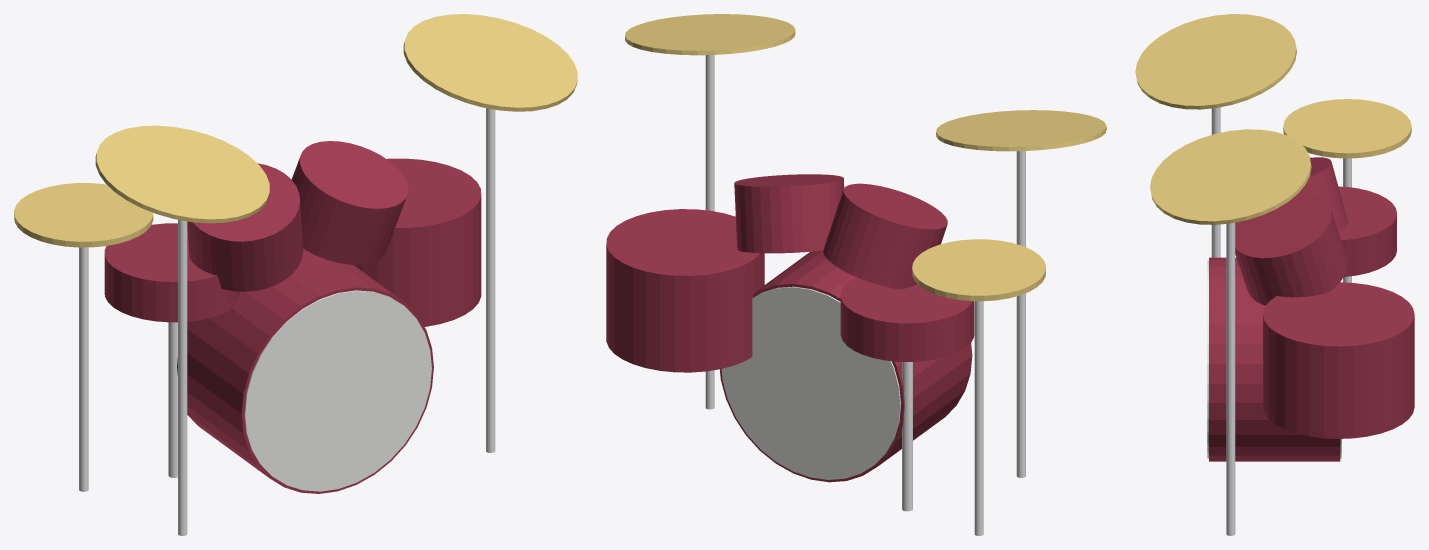
Rendered from concert_stage_drum_kit.glb.
3 views of the same model, side by side, from view 1: azimuth 30°, elevation 25°; view 2: azimuth 150°, elevation 25°; view 3: azimuth 270°, elevation 25° (orthographic). The views are drawn at different scales.
Visible parts, largest first — view 1: Concert_Stage_Drum_Kit; view 2: Concert_Stage_Drum_Kit; view 3: Concert_Stage_Drum_Kit.
Boxes of the visible parts, left/top/right/bottom form: Concert_Stage_Drum_Kit: left=14, top=14, right=577, bottom=535; Concert_Stage_Drum_Kit: left=606, top=14, right=1106, bottom=535; Concert_Stage_Drum_Kit: left=1135, top=14, right=1414, bottom=535.
Size of the model in its own units: 1.75 by 1.42 by 0.9571.
